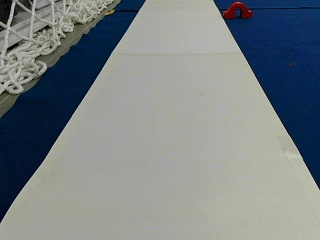bridge: (222, 1, 252, 17)
